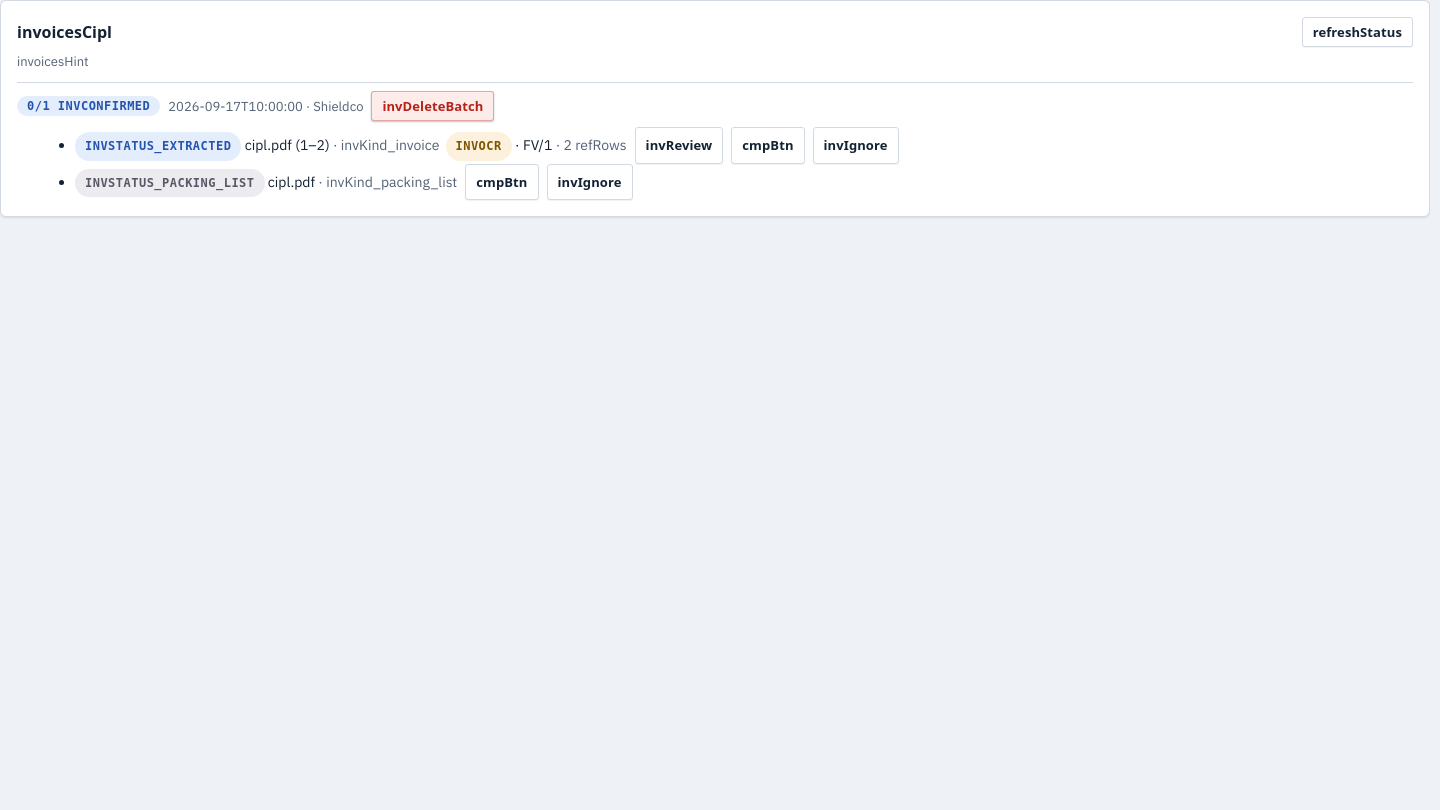
Test: InvoiceBatchesPanel › lists documents with status and opens review for the invoice
Expected: the text "invStatus_extracted" is shown, [75,132,241,161]
Expected: the text "invStatus_packing_list" is shown, [75,169,264,198]
Click the button "invReview" at (679, 145), box [635,127,723,164]
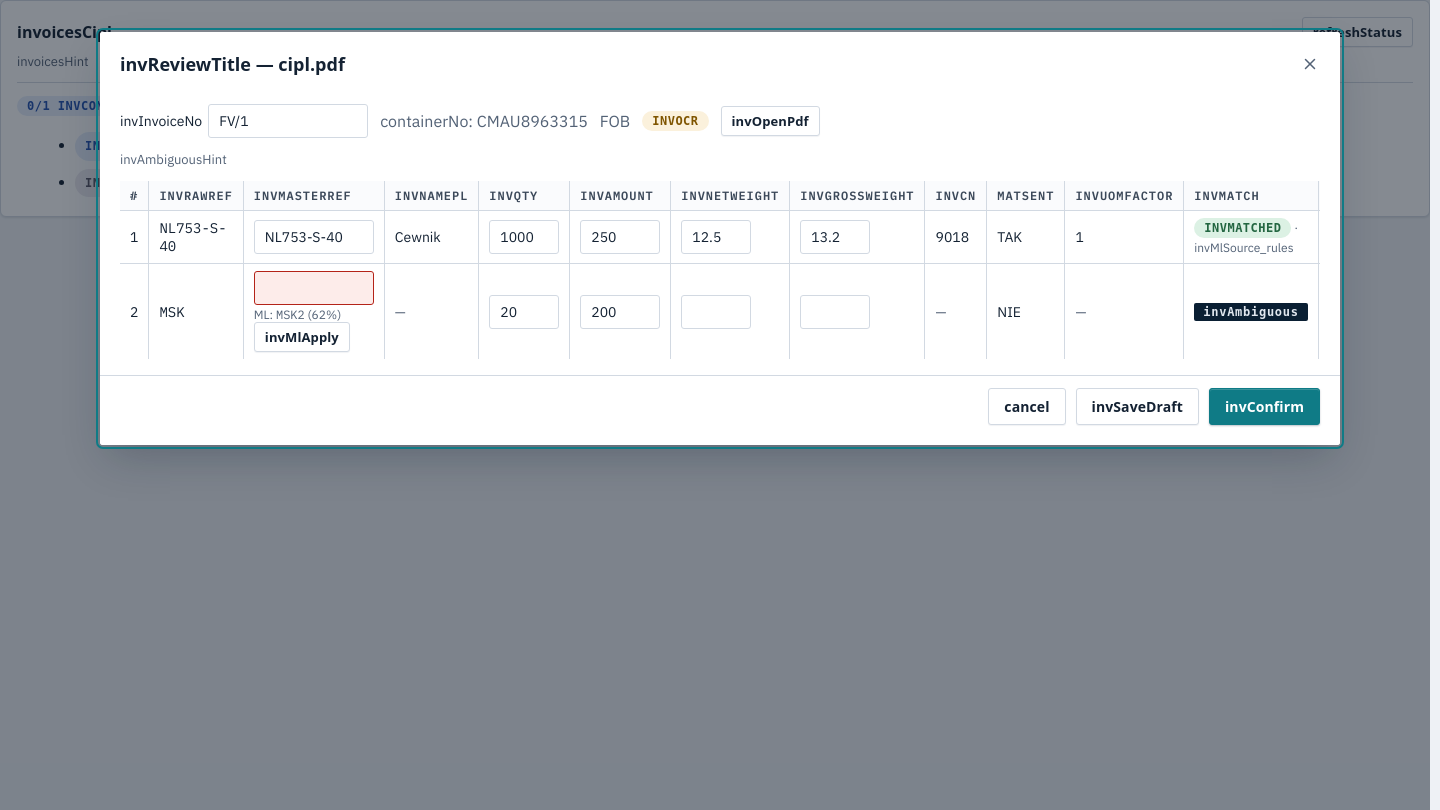
Expected: the text "Cewnik" is shown, [384,211,479,264]
Expected: the text "invAmbiguous" is shown, [1194,303,1308,321]
Expected: the text "invAmbiguousHint" is shown, [120,151,227,168]
Click the button "invConfirm" at (1264, 407), box [1209,388,1320,425]
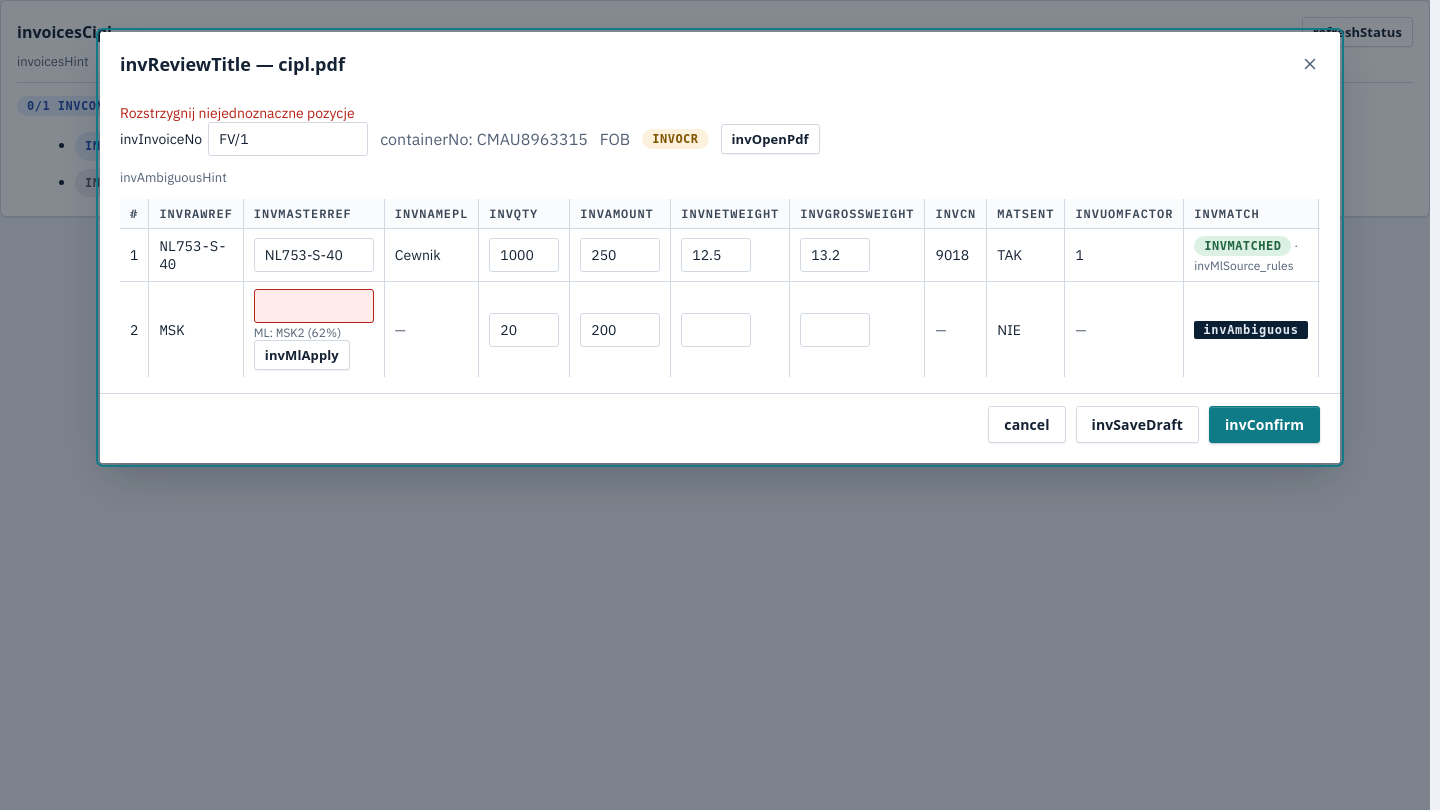
Expected: the text "invOcr" in the row of "invStatus_extracted" is shown, [456,139,502,153]
Expected: the text "(62%)" is shown, [305,325,341,340]
Expected: the text "Rozstrzygnij niejednoznaczne pozycje" is shown, [120,104,355,122]
Click the button "invMlApply" at (302, 355), box [254,340,350,370]
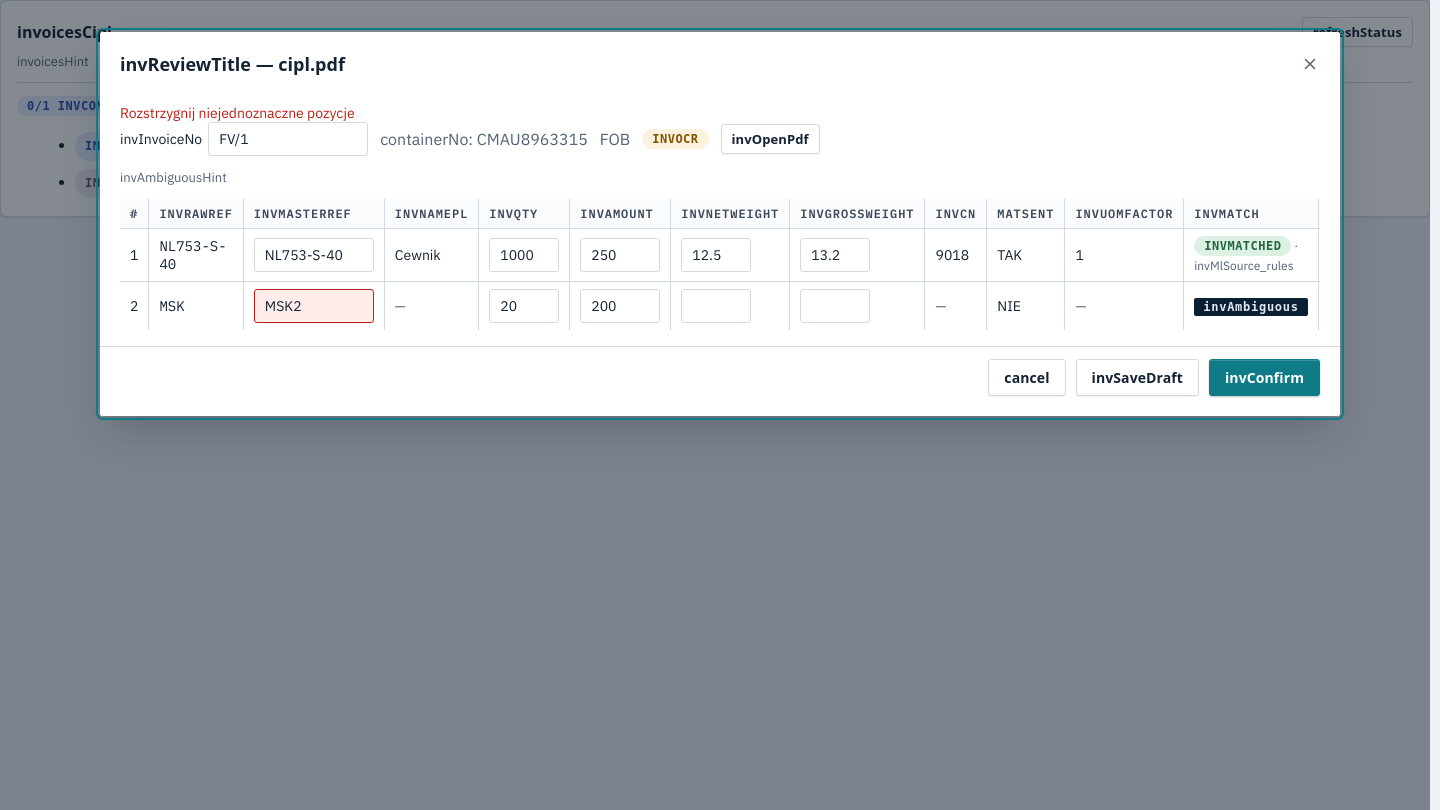
Click the button "invConfirm" at (1264, 378), box [1209,359,1320,396]
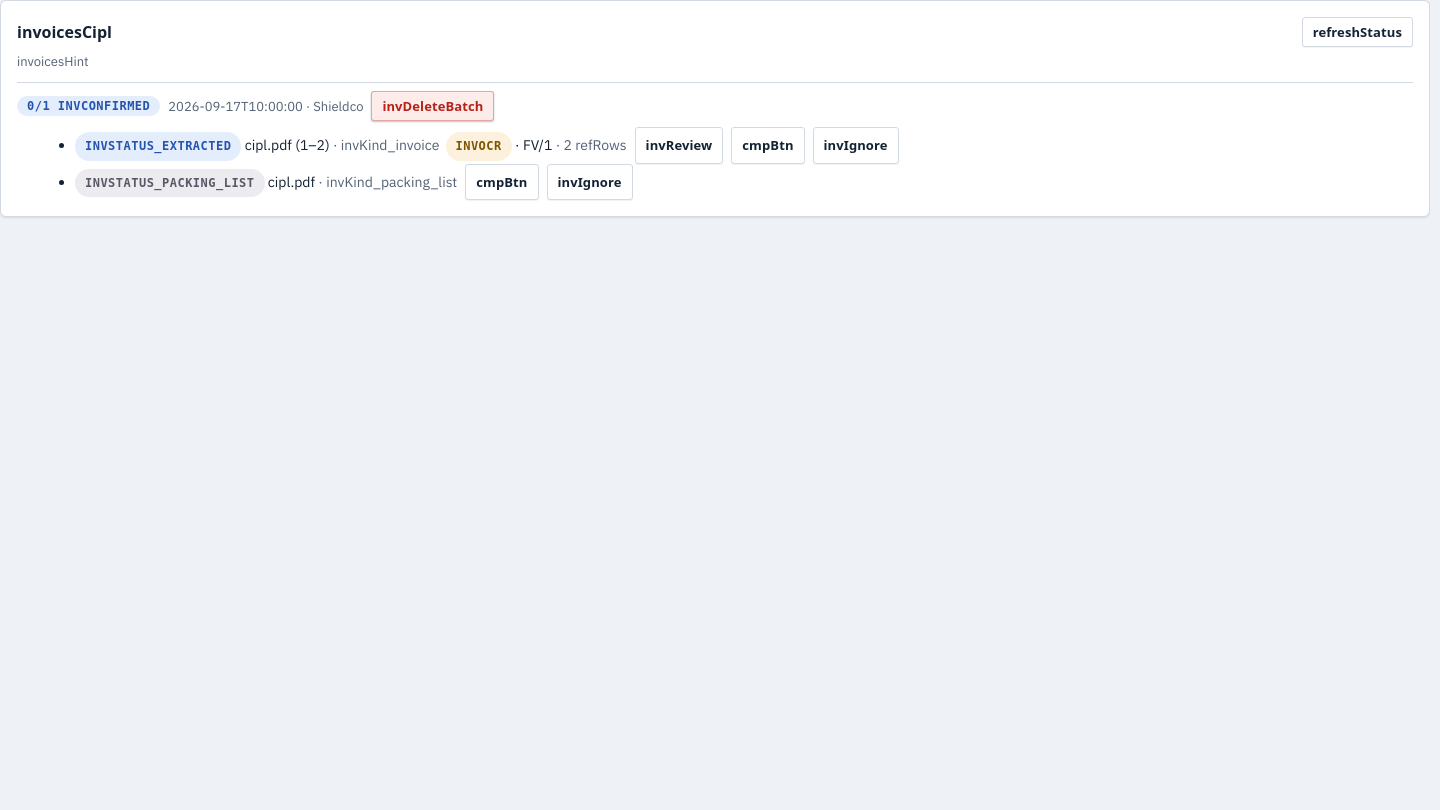
Expected: the heading "invReviewTitle" is gone
